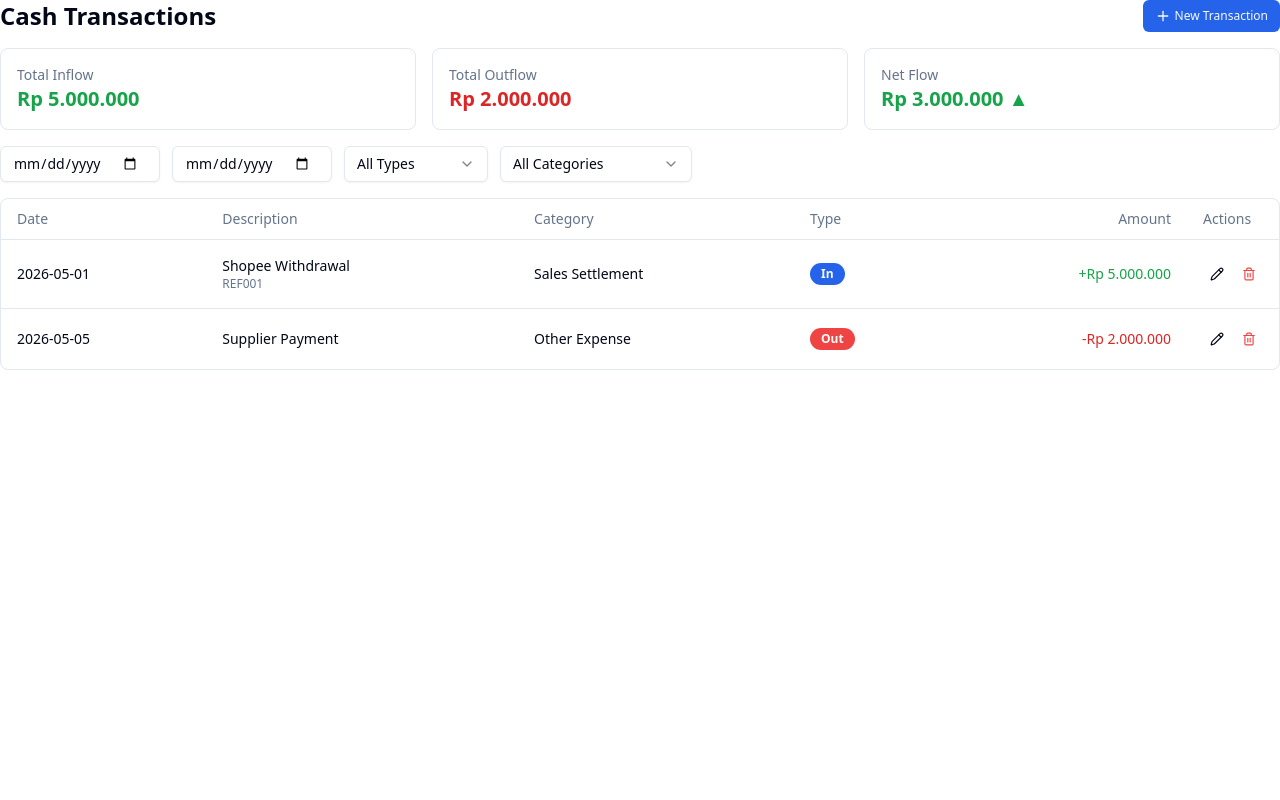
Test: "New Transaction" button opens dialog
Click the button "New Transaction".
click(1211, 16)  # box [1142,0,1279,32]
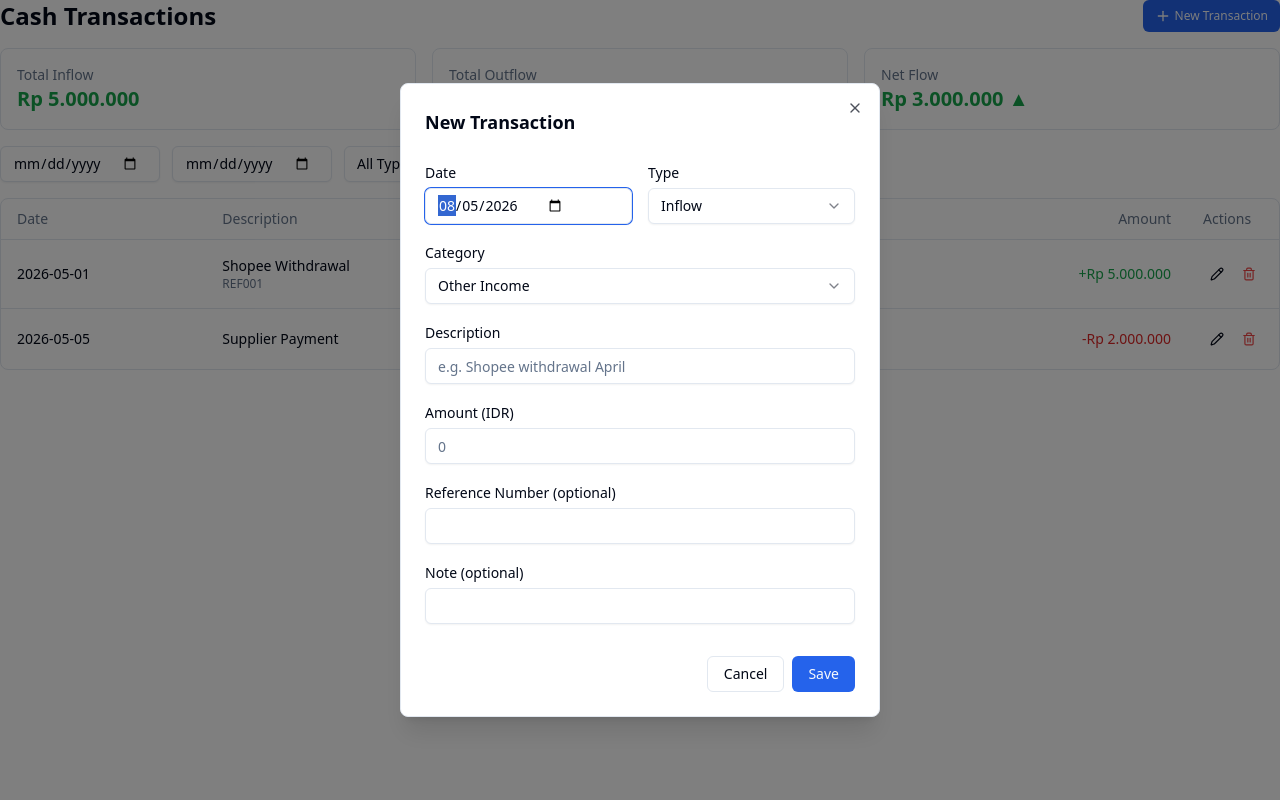
Expected: the dialog is shown, [400,83,880,717]
